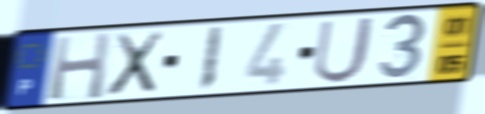3: (377, 10, 429, 84)
4: (242, 19, 291, 90)
H: (46, 30, 114, 103)
I: (195, 24, 226, 94)
U: (310, 14, 378, 86)
X: (104, 28, 168, 99)
